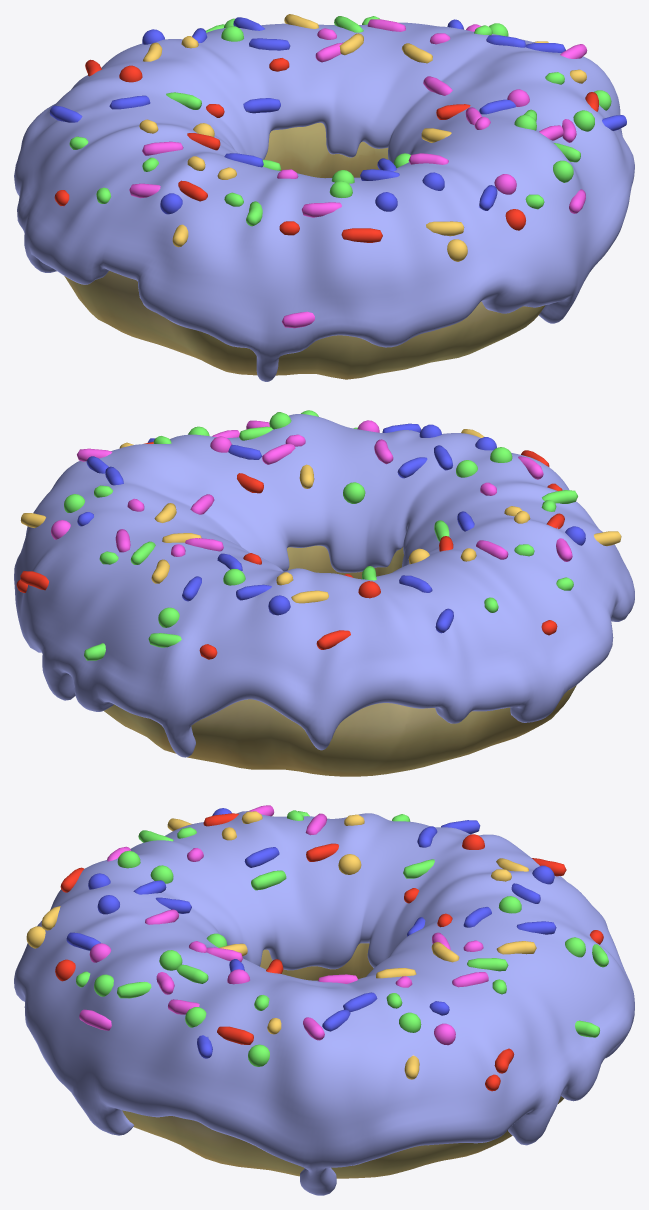
The model's file is donutSprigle.glb.
The picture shows the model from 3 angles, top to bottom: view 1: azimuth 30°, elevation 25°; view 2: azimuth 150°, elevation 25°; view 3: azimuth 270°, elevation 25°; orthographic projection. The views are drawn at different scales.
Visible parts, largest first — view 1: Icing.021, DonutBaked2; view 2: Icing.021, DonutBaked2; view 3: Icing.021, DonutBaked2.
Boxes of the visible parts, x1,y1,x2,y2 form: Icing.021: (14,14,634,381); DonutBaked2: (64,122,545,379); Icing.021: (14,410,634,757); DonutBaked2: (104,545,576,776); Icing.021: (14,805,634,1195); DonutBaked2: (122,943,564,1178).
Bounding box in the file's own units: 0.3512 × 0.1194 × 0.3374.
Materials: 2 (2 with a texture image).
